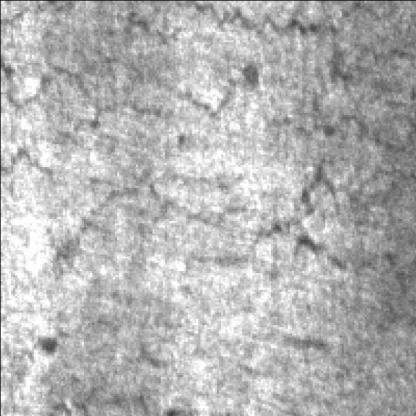crazing: (11, 2, 272, 254), (176, 154, 408, 276), (104, 0, 410, 75)
